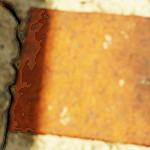brick: (10, 7, 149, 146)
crack: (0, 1, 21, 148)
